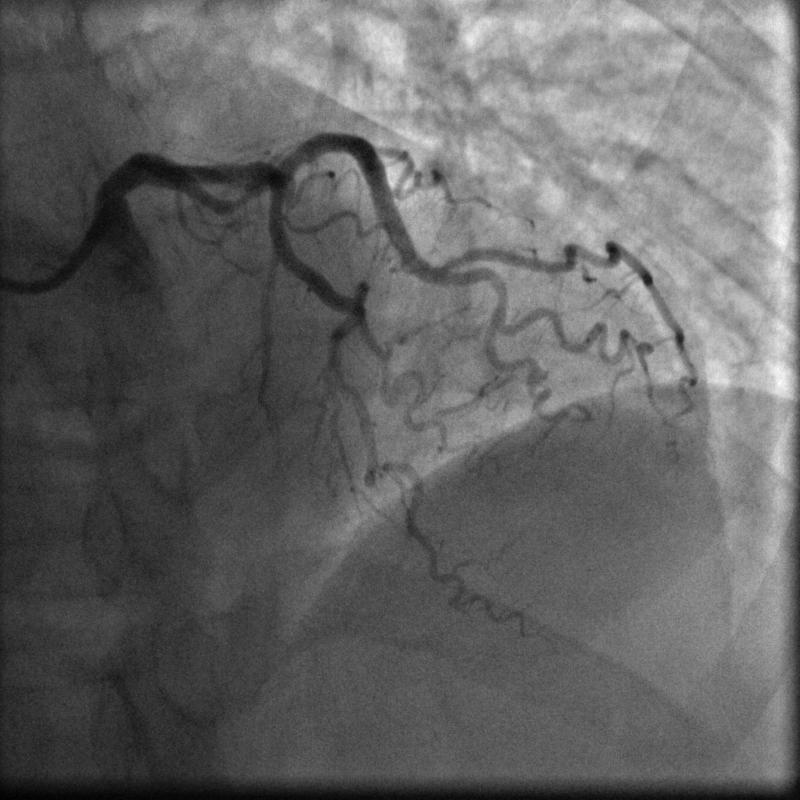Stenosis: (222, 176, 261, 216)
